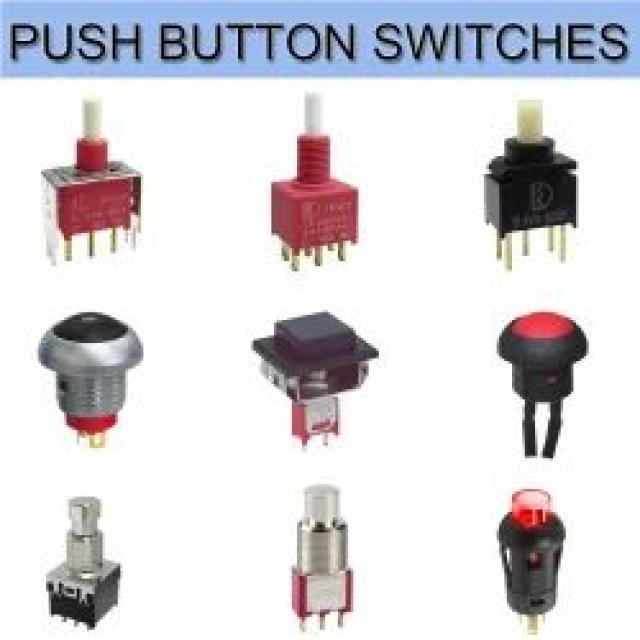Push button: (251, 310, 377, 450), (270, 90, 363, 276), (41, 99, 144, 266), (484, 99, 582, 272), (45, 310, 140, 458), (496, 311, 589, 459), (46, 497, 120, 632), (497, 487, 566, 630), (290, 485, 353, 636)
